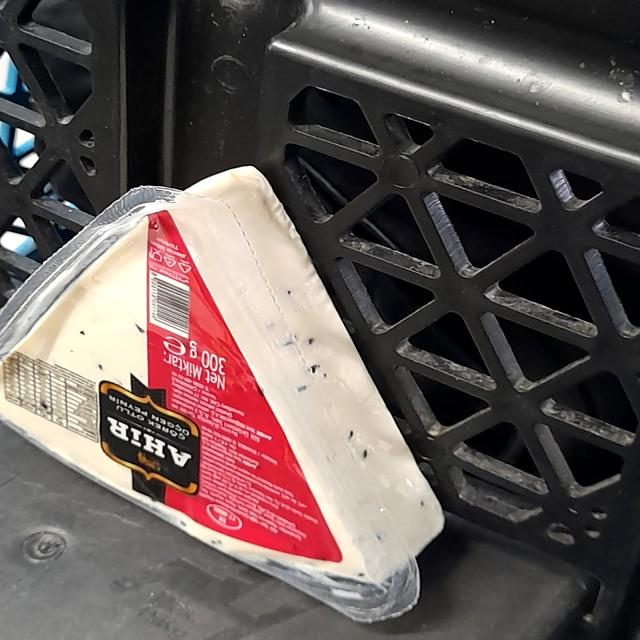cheese: (0, 187, 433, 600)
